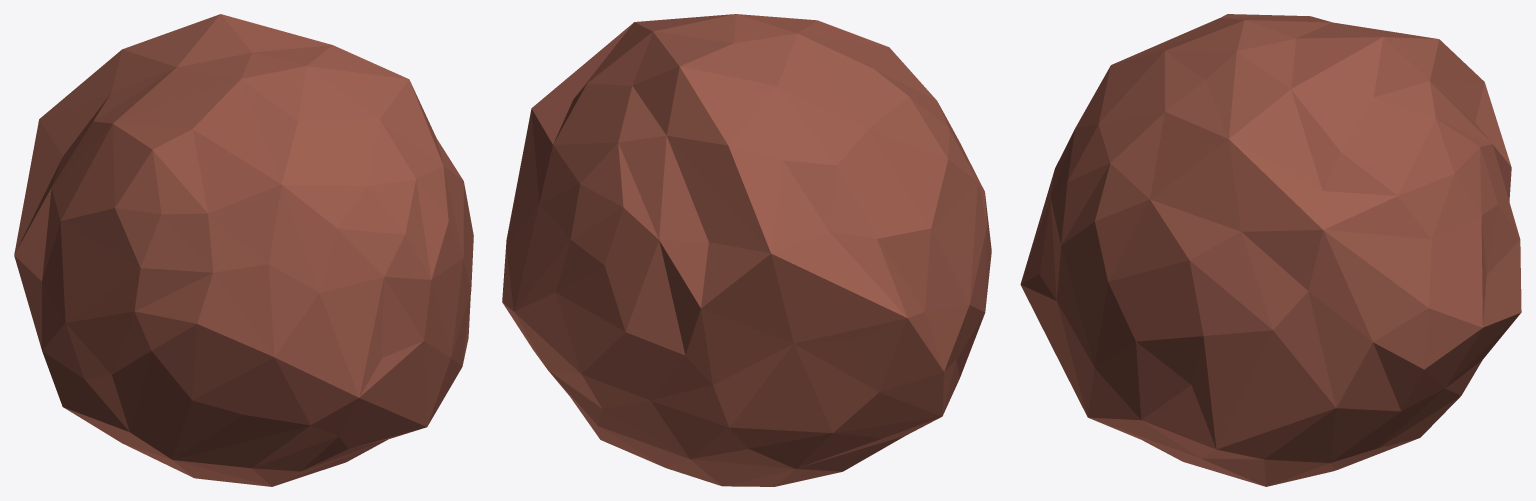
Rendered from dry_planet5.fbx.
The picture shows the model from 3 angles, left to right: view 1: azimuth 30°, elevation 25°; view 2: azimuth 150°, elevation 25°; view 3: azimuth 270°, elevation 25°; orthographic projection. The views are drawn at different scales.
Visible parts, largest first — view 1: dry_planet5; view 2: dry_planet5; view 3: dry_planet5.
Boxes of the visible parts, bbox=[...] form: dry_planet5: bbox=[14, 14, 473, 486]; dry_planet5: bbox=[502, 14, 991, 486]; dry_planet5: bbox=[1020, 14, 1521, 486].
Size of the model in its own units: 204 by 202 by 212.
